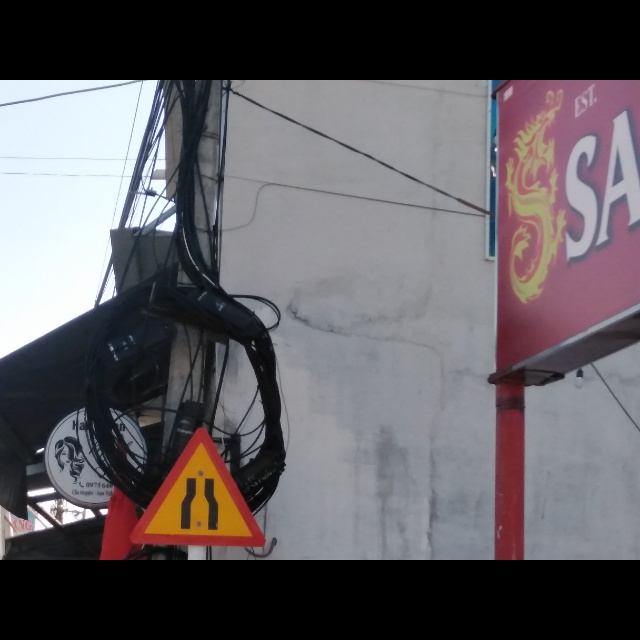Đường bị hẹp cả hai bên: (122, 426, 270, 550)
